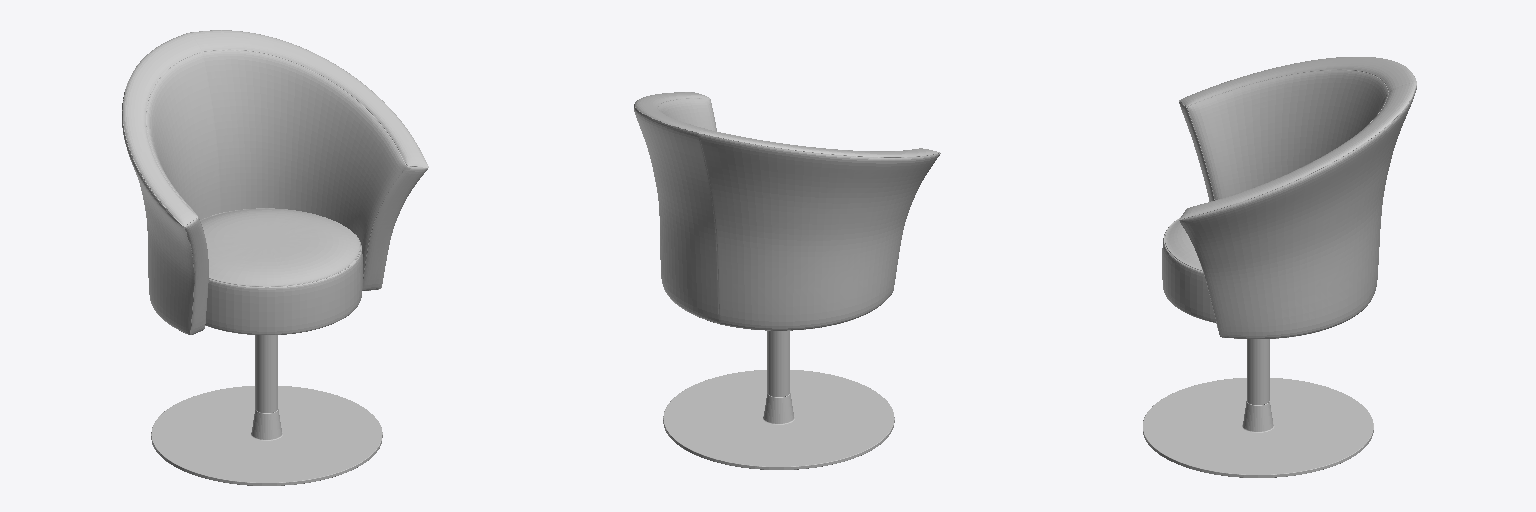
Rendered from chair2.obj.
The picture shows the model from 3 angles: view 1: azimuth 30°, elevation 25°; view 2: azimuth 150°, elevation 25°; view 3: azimuth 270°, elevation 25°; orthographic projection.
Parts seen in each view (by area): view 1: Line04, Line02, Cylinder01, Line03; view 2: Line04, Line02, Line03; view 3: Line04, Line02, Cylinder01, Line03.
Boxes of the visible parts, box(x1,y1,x2,y2) form: Line04: box(122, 30, 428, 334); Line02: box(151, 386, 382, 485); Cylinder01: box(200, 208, 362, 334); Line03: box(255, 335, 277, 412); Line04: box(634, 92, 940, 330); Line02: box(663, 370, 894, 469); Line03: box(767, 331, 789, 396); Line04: box(1179, 57, 1416, 338); Line02: box(1143, 378, 1373, 477); Cylinder01: box(1162, 217, 1215, 322); Line03: box(1247, 339, 1269, 404).
Size of the model in its own units: 639 by 826 by 593.